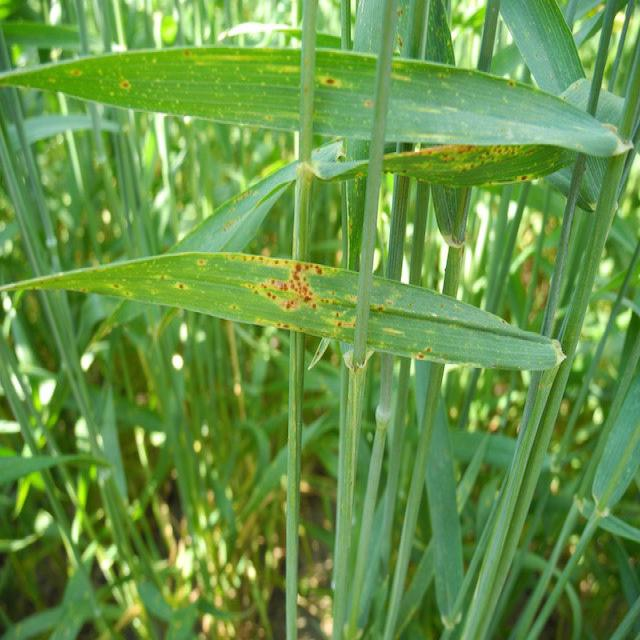wheat-stemrust: (104, 253, 366, 331)
